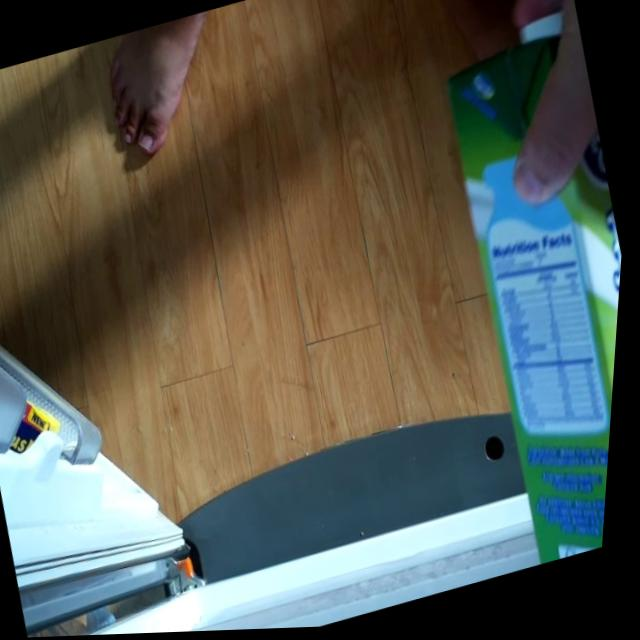milk: (412, 12, 638, 572)
